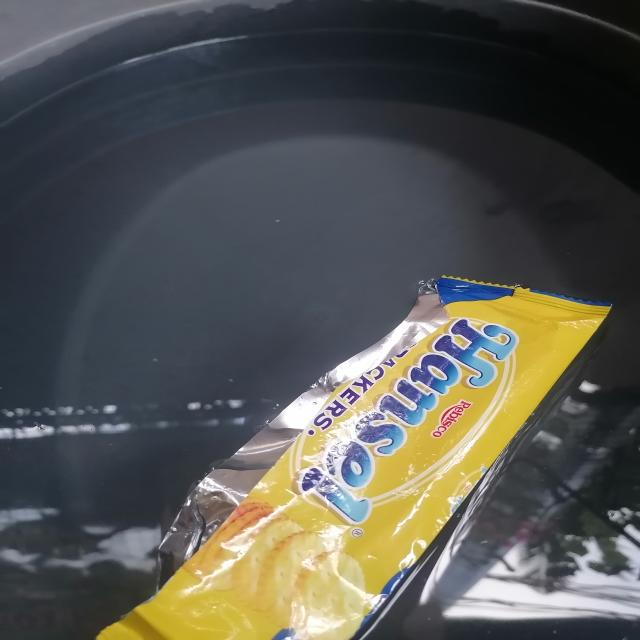Plastic Wrapper: (96, 278, 610, 640)
